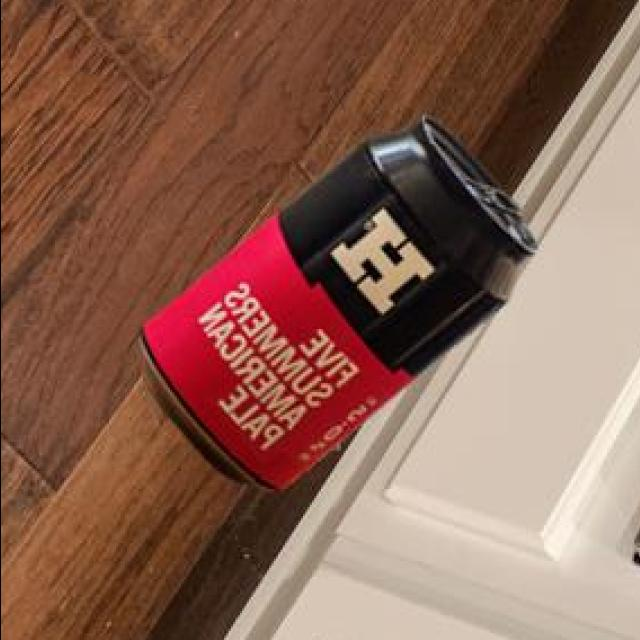logam: (143, 121, 540, 495)
